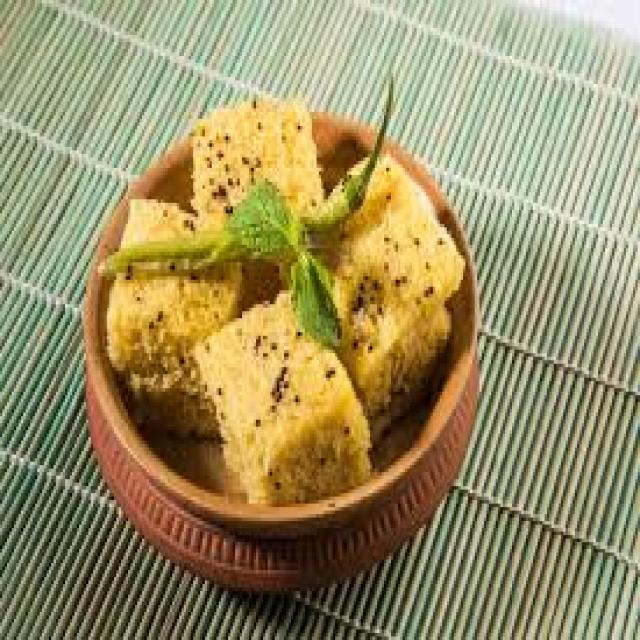DHOKLA: (193, 294, 370, 500), (335, 161, 463, 420), (107, 262, 237, 427), (191, 98, 321, 224), (123, 199, 195, 241)
